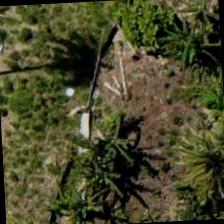Kelapa_Sawit: (167, 119, 223, 213), (0, 3, 48, 87)
